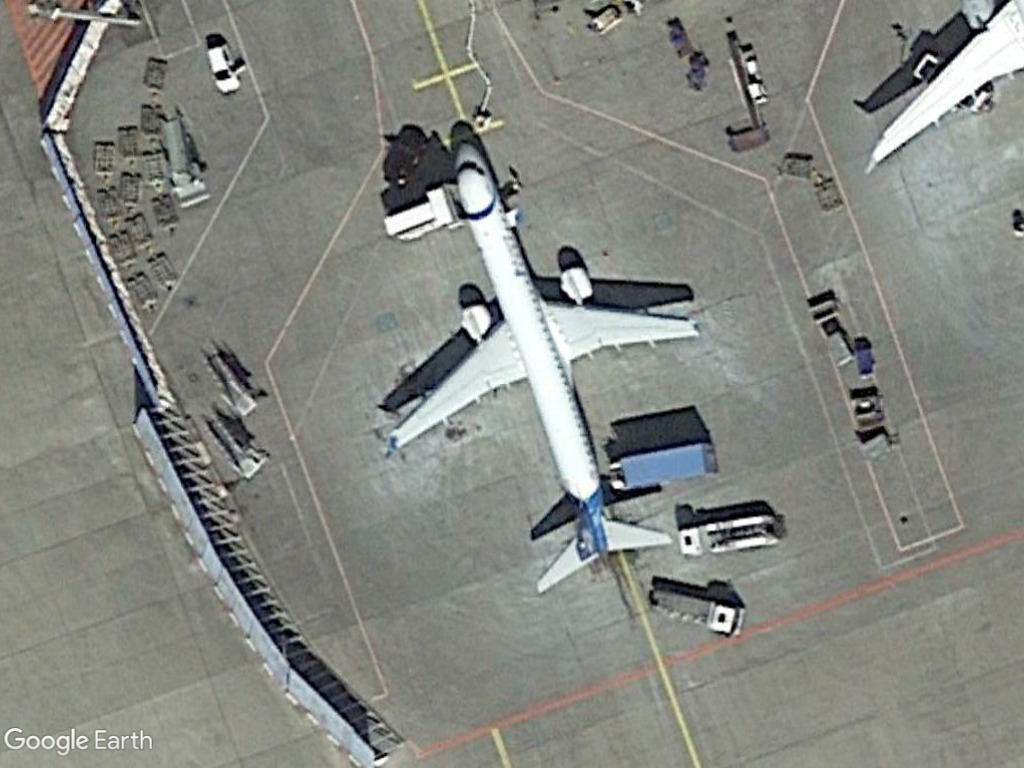airliner: (378, 140, 703, 593)
other: (643, 578, 743, 641), (673, 512, 783, 562)
truck: (604, 441, 721, 496)
van: (201, 43, 243, 94)
